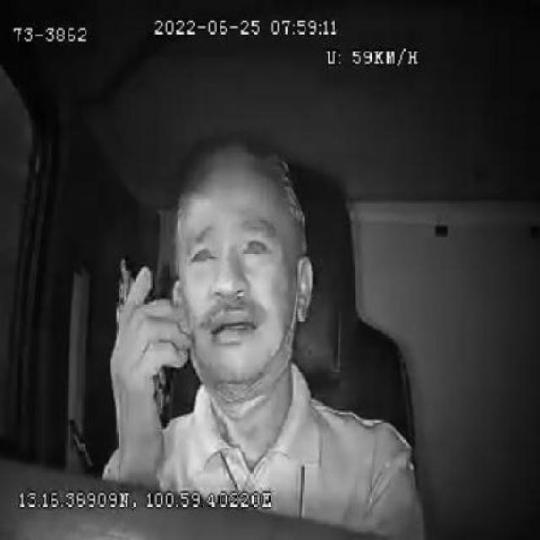phone: (110, 254, 177, 429)
